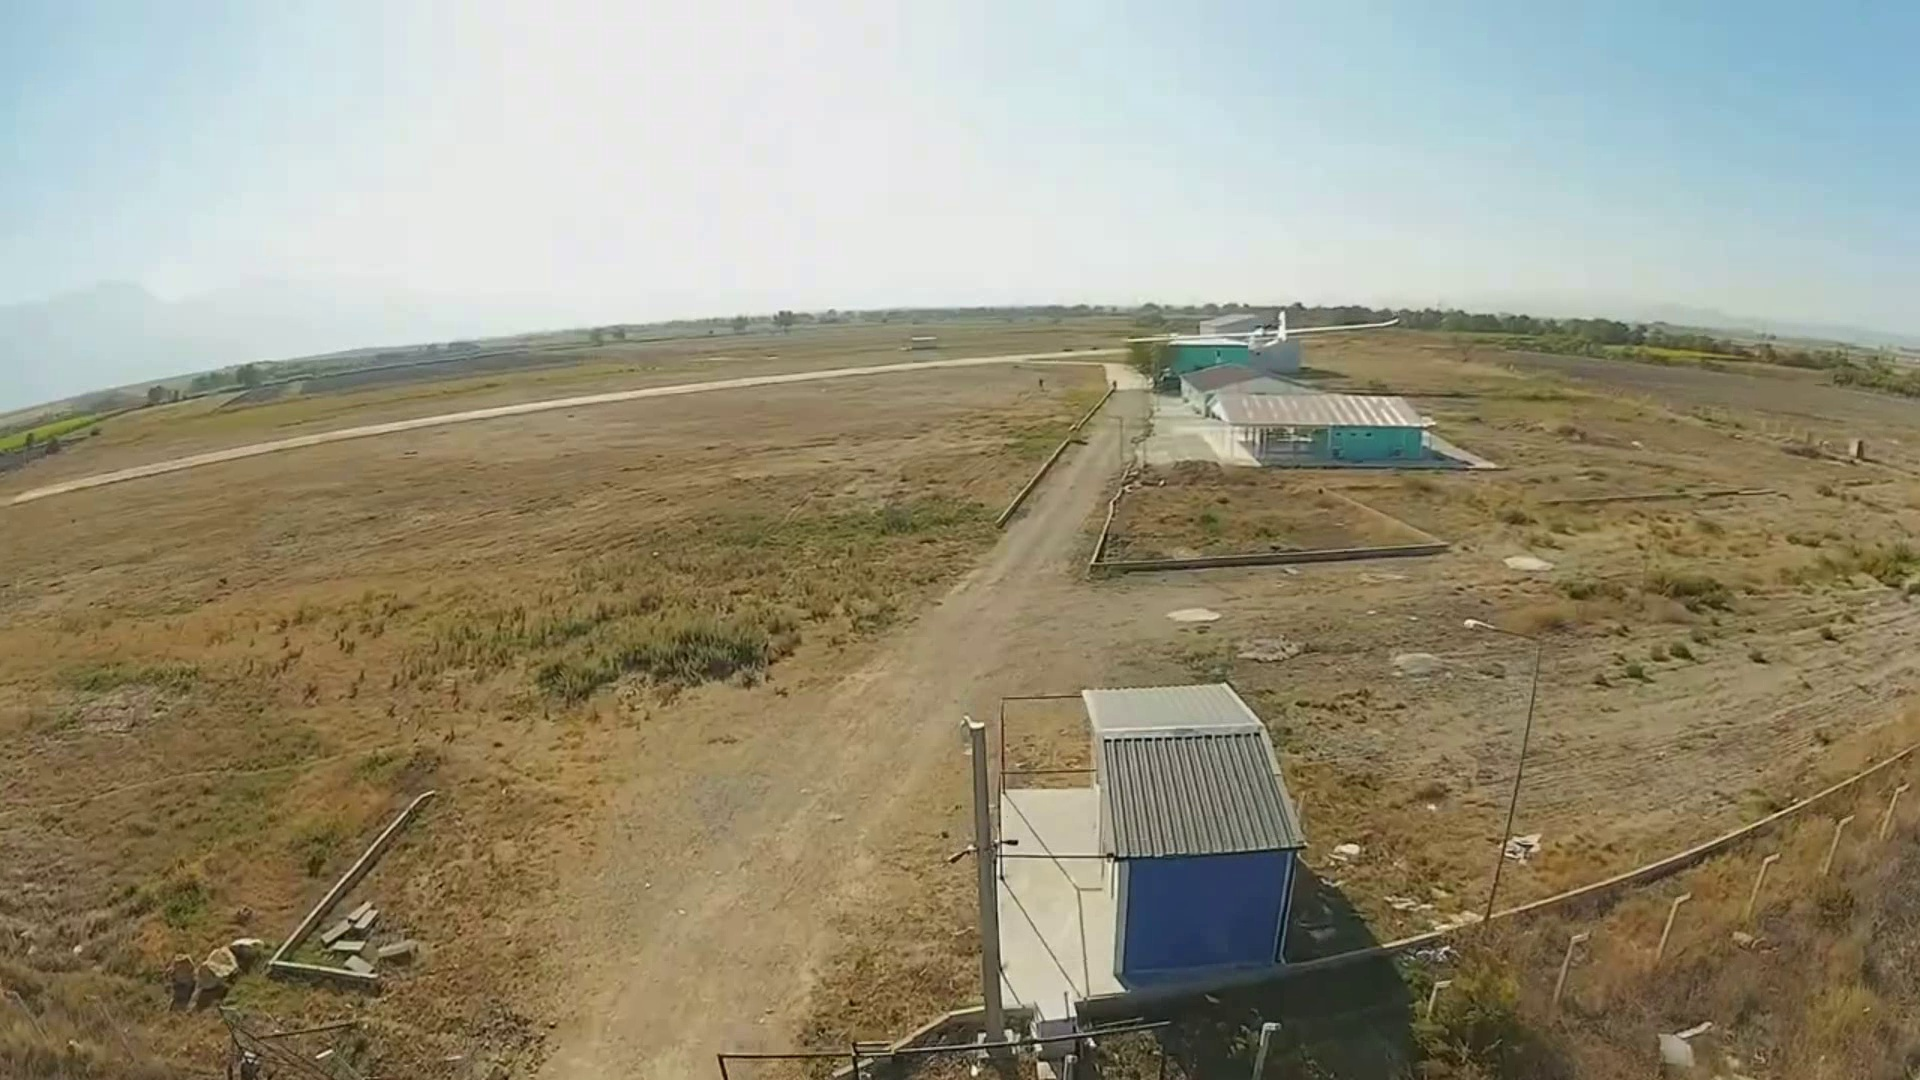airplane: (1159, 355, 1494, 472)
